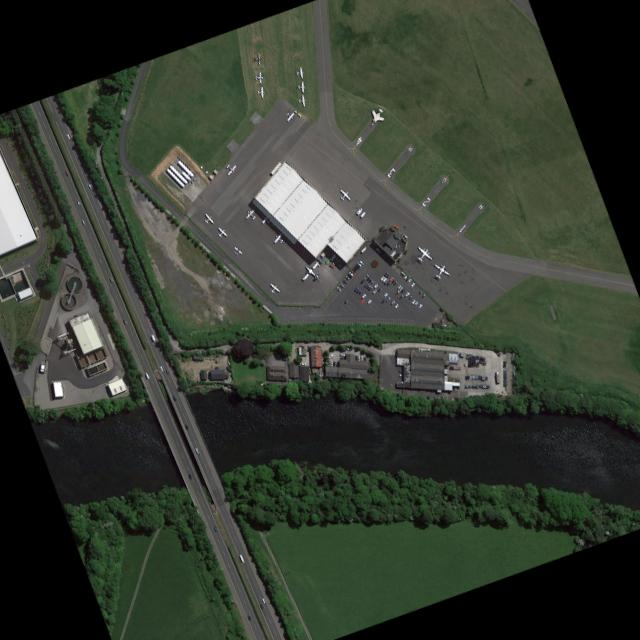large-vehicle: (165, 166, 185, 186), (168, 163, 188, 183), (177, 158, 194, 176), (180, 169, 191, 179), (238, 552, 245, 562), (355, 206, 363, 214), (360, 244, 367, 252), (359, 209, 366, 217), (495, 370, 500, 381), (150, 333, 156, 342), (450, 364, 461, 368), (144, 370, 149, 377), (383, 277, 388, 283), (404, 275, 409, 280), (393, 223, 398, 228)
plane: (297, 256, 327, 289), (364, 102, 389, 130), (410, 240, 435, 267), (427, 258, 452, 283), (335, 186, 352, 203), (222, 159, 238, 176), (266, 279, 281, 295), (271, 229, 286, 245), (243, 205, 258, 221), (214, 224, 229, 239), (201, 210, 215, 225), (283, 108, 296, 121), (260, 214, 271, 226), (296, 93, 306, 106), (231, 244, 242, 255), (296, 79, 305, 92), (295, 65, 304, 78), (252, 52, 262, 63), (256, 85, 265, 97), (255, 70, 264, 82)
small-vehicle: (409, 280, 415, 286), (194, 446, 199, 453), (158, 364, 163, 371), (87, 181, 92, 188), (108, 274, 113, 281), (389, 298, 394, 304), (371, 287, 376, 293), (417, 302, 422, 308), (404, 290, 409, 296), (398, 292, 403, 298), (171, 394, 176, 400), (359, 297, 364, 303), (339, 281, 344, 287), (342, 277, 347, 283), (65, 132, 70, 138), (406, 276, 411, 282), (350, 268, 355, 274), (122, 317, 127, 323), (246, 613, 251, 619), (64, 168, 68, 175), (76, 197, 80, 204), (385, 295, 390, 300), (380, 297, 385, 302), (382, 291, 387, 296), (376, 286, 381, 291), (373, 282, 378, 287), (367, 284, 372, 289), (360, 277, 365, 282), (367, 276, 372, 281), (365, 275, 370, 280), (363, 273, 368, 278), (413, 299, 418, 304), (398, 285, 403, 290), (396, 283, 401, 288), (392, 279, 397, 284), (390, 277, 395, 282), (385, 279, 390, 284), (353, 285, 358, 290), (355, 287, 360, 292), (212, 524, 217, 529), (343, 298, 348, 303), (336, 285, 341, 290), (366, 298, 371, 303), (379, 274, 384, 279), (420, 292, 425, 297), (417, 288, 422, 293), (402, 273, 407, 278), (402, 232, 407, 237), (356, 260, 361, 265), (354, 263, 359, 268), (351, 266, 356, 271), (348, 270, 353, 275), (347, 272, 352, 277), (369, 278, 373, 284), (395, 288, 399, 294), (259, 602, 263, 608), (261, 596, 265, 602), (187, 471, 191, 477), (184, 423, 188, 429), (165, 368, 169, 374), (81, 217, 85, 223), (394, 302, 398, 307), (366, 282, 370, 287), (411, 298, 415, 303), (408, 294, 412, 299), (400, 287, 404, 292), (357, 289, 362, 293), (361, 292, 365, 297), (389, 275, 393, 280), (382, 276, 386, 281), (73, 312, 78, 316), (359, 259, 364, 263), (385, 272, 389, 277), (383, 270, 387, 275), (363, 355, 366, 361), (339, 352, 345, 355), (300, 361, 306, 364), (364, 281, 368, 285), (327, 353, 331, 357), (353, 265, 357, 269), (345, 274, 349, 278), (332, 360, 335, 365), (397, 372, 402, 375), (357, 354, 360, 359), (346, 346, 351, 349), (326, 358, 329, 363), (330, 359, 332, 365), (340, 355, 344, 358), (360, 354, 362, 359), (354, 354, 356, 359), (307, 344, 309, 349), (398, 369, 402, 371)
